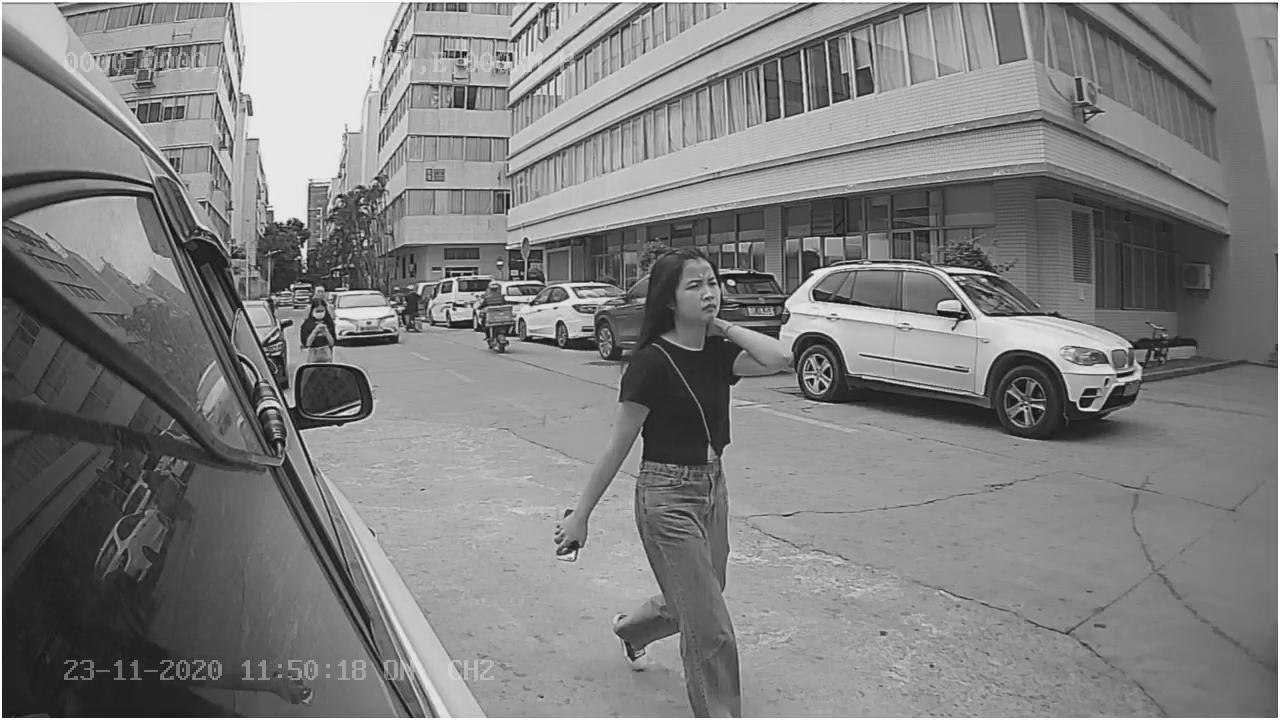person: (552, 223, 795, 555)
